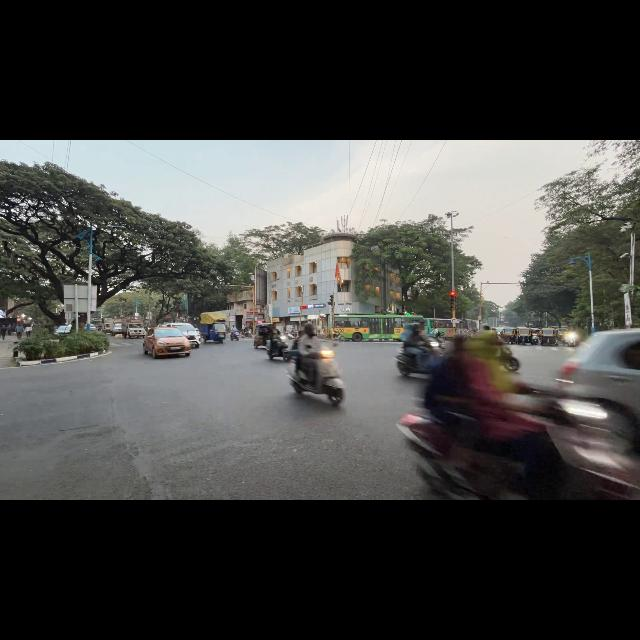bus: (429, 319, 479, 337), (425, 319, 431, 331)
car: (557, 329, 639, 443), (143, 327, 191, 357), (163, 323, 201, 348), (54, 325, 71, 337), (111, 323, 122, 335)
motorcycle: (397, 414, 522, 499), (288, 348, 344, 405), (395, 348, 429, 376), (267, 335, 289, 361), (499, 346, 519, 371), (564, 332, 578, 346), (240, 330, 252, 338), (230, 332, 239, 340)
truck: (122, 317, 145, 337), (107, 319, 122, 335), (103, 318, 112, 333)
